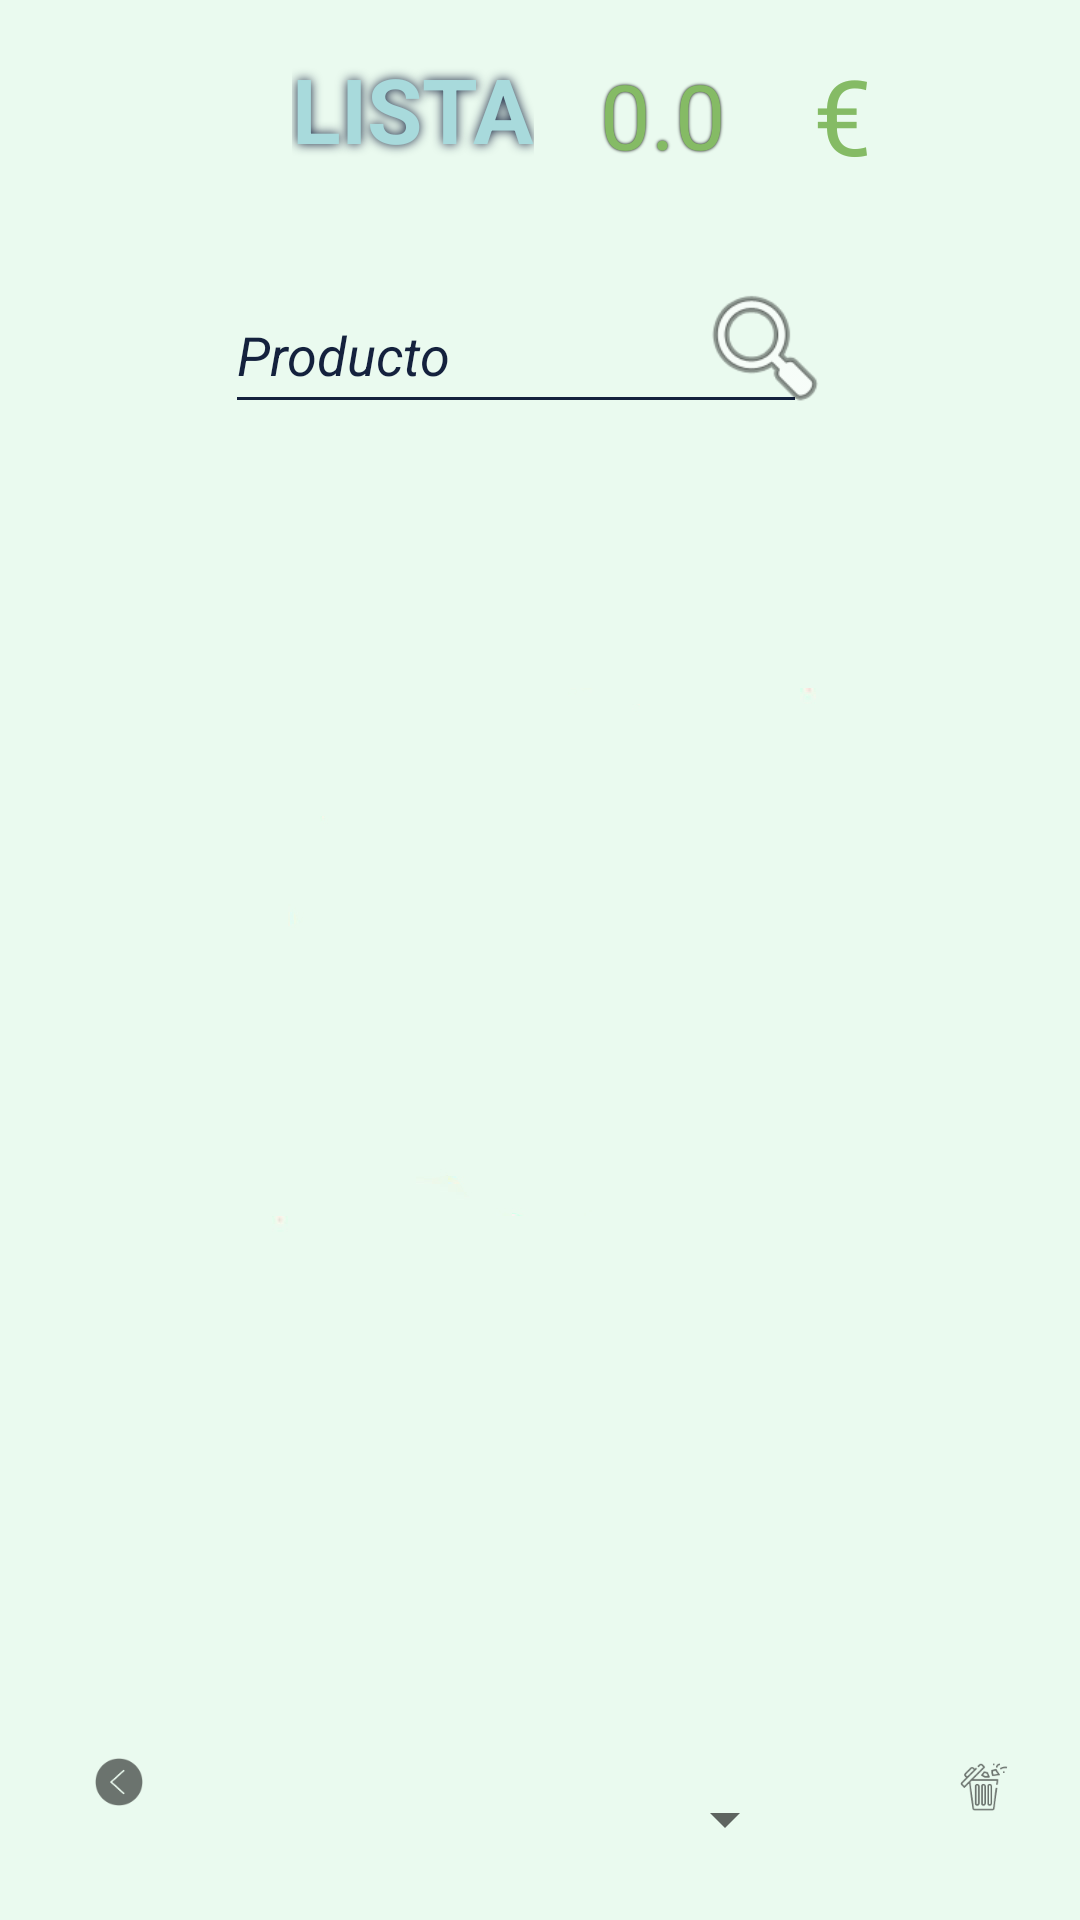

Icon click points for this 1080px×1920px phone screenshot, format (x,y):
hacia atras: (119,1782)
search: (746,348)
